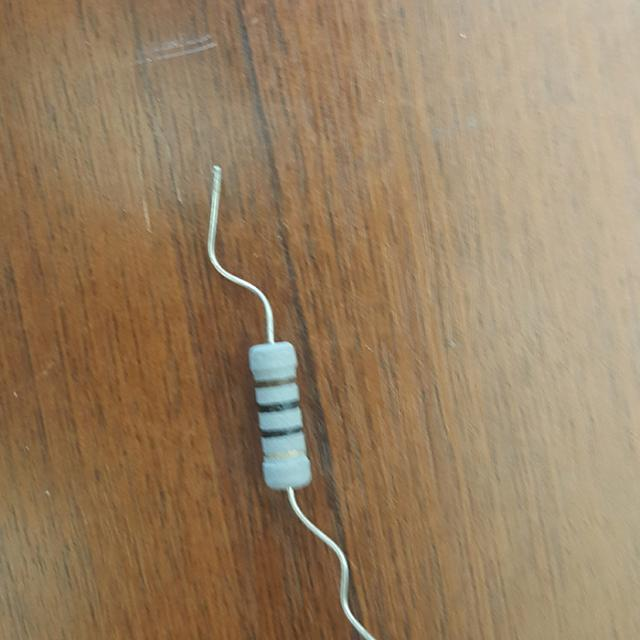black: (258, 400, 298, 412), (261, 426, 302, 437)
brown: (254, 376, 295, 387)
gold: (265, 448, 304, 458)
resistor: (235, 330, 330, 506)
